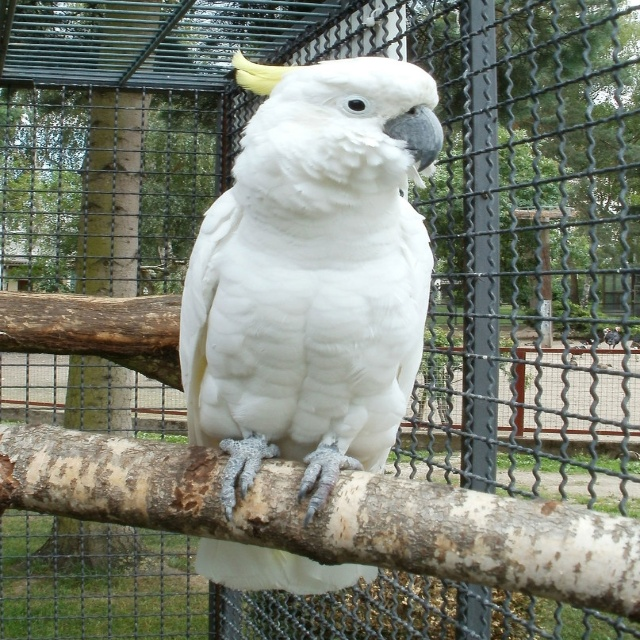Parrot: (178, 49, 444, 597)
